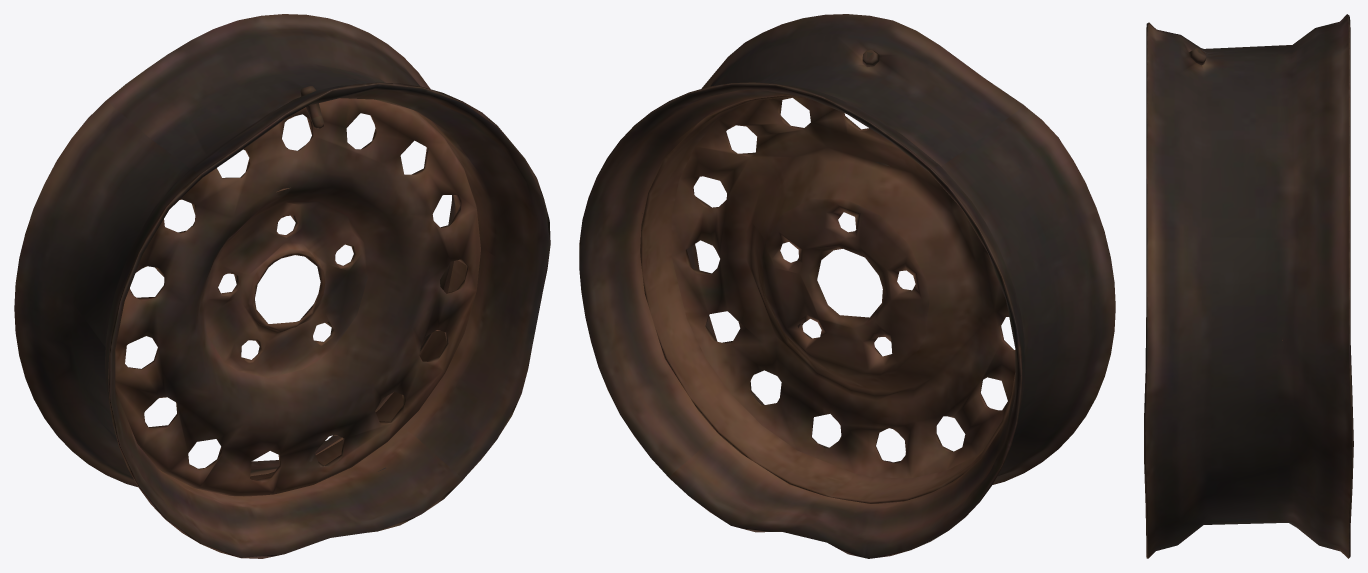
File: rusted_wheel_rim_01.glb
3 renders of one model, left to right at view 1: azimuth 30°, elevation 25°; view 2: azimuth 150°, elevation 25°; view 3: azimuth 270°, elevation 25°, orthographic. The views are drawn at different scales.
Visible parts, largest first — view 1: rusted_wheel_rim_01; view 2: rusted_wheel_rim_01; view 3: rusted_wheel_rim_01.
Part boxes in pixels (<box>): rusted_wheel_rim_01: <box>14,14,550,558</box>; rusted_wheel_rim_01: <box>579,14,1115,558</box>; rusted_wheel_rim_01: <box>1144,14,1353,558</box>.
Size of the model in its own units: 0.4018 by 0.3944 by 0.1539.
1 material, 1 textured.
